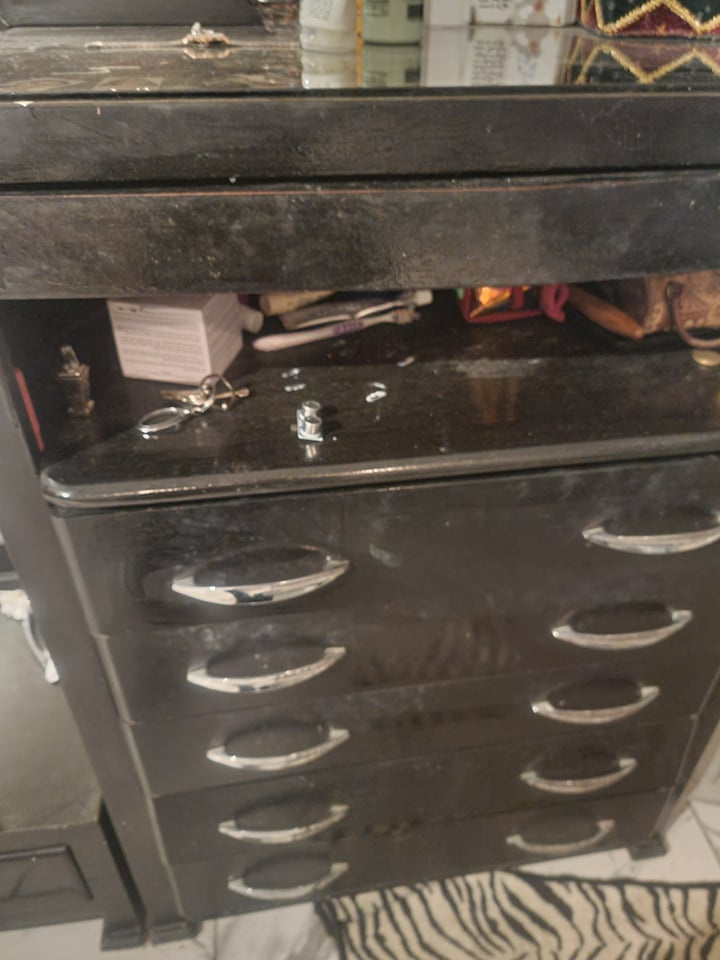SENSOR: (294, 398, 325, 443)
